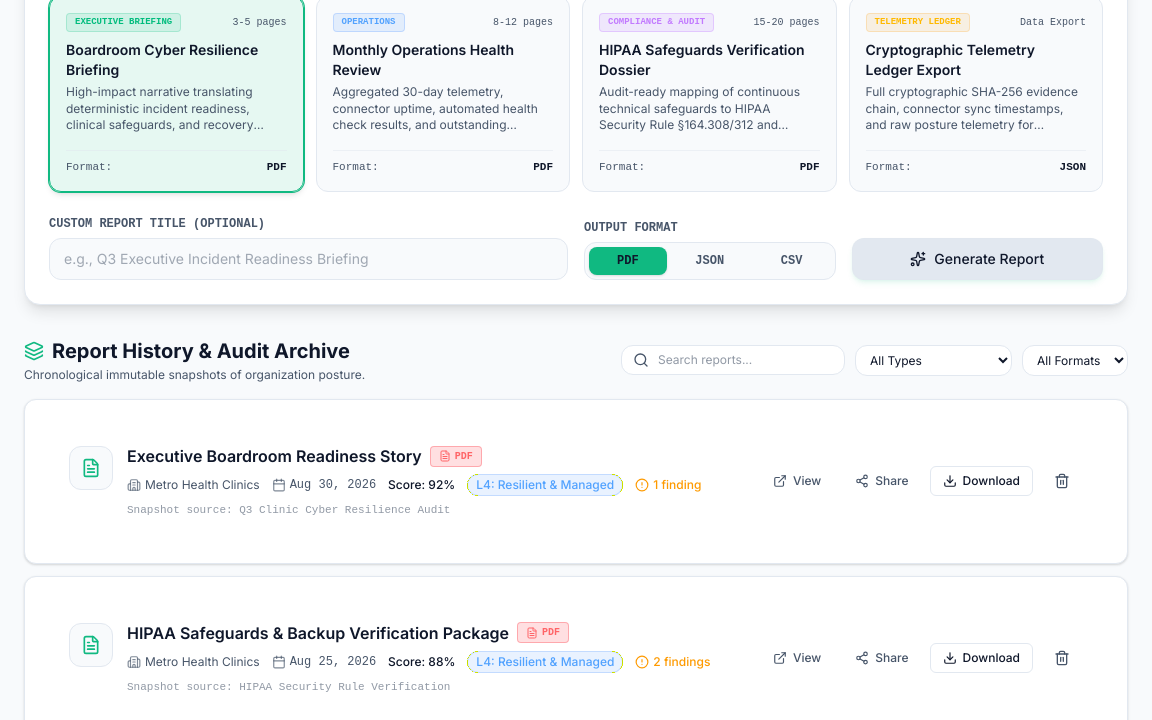
Test: Tier 2: Boundary & Corner Cases (R1 - R8) › R6: Reports UX Boundaries › T2.R6.02: Search query with no matching reports displays empty match state
(page scrolled)
Expected: the heading "Executive Boardroom Readiness Story" is shown, [127,444,422,468]
Type "NONEXISTENT_QUERY_XYZ" into the field with placeholder "Search reports..." at coordinates (733, 360), box [621,345,845,375]
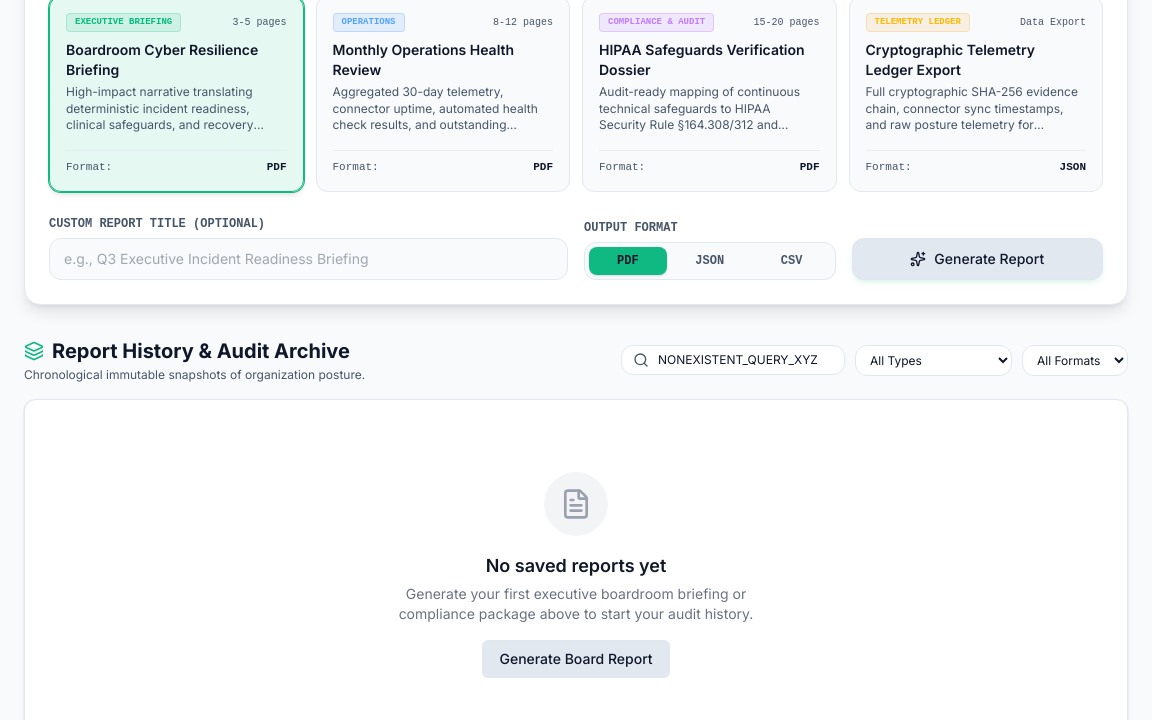
Now the heading "No saved reports yet" is shown, box [486,552,666,580]
